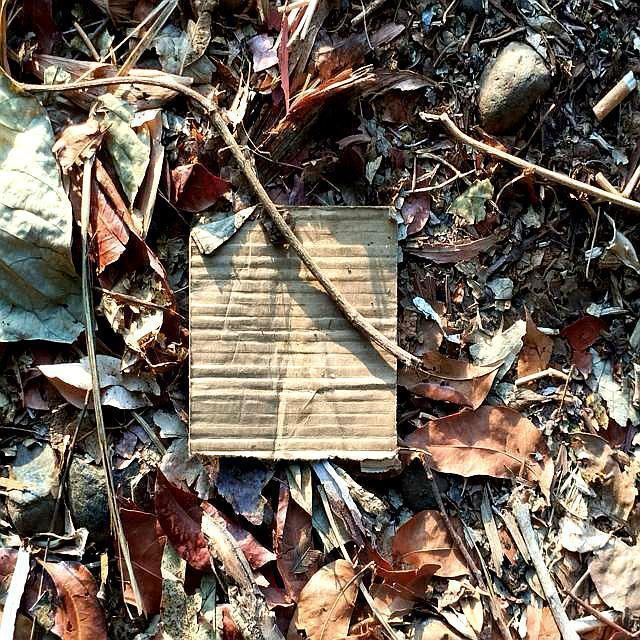Biodegradable: (188, 207, 400, 463)
